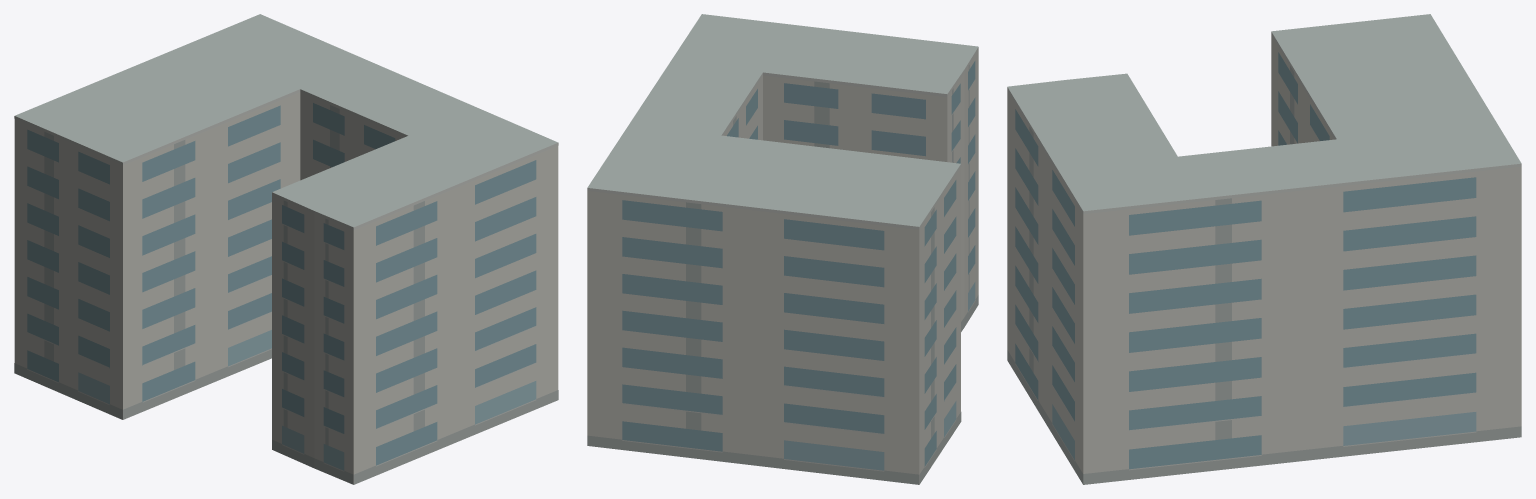
The model's file is residential-1e2c2783-6b8d-4338-878b-4f80bff09e83.glb.
3 views of the same model, side by side, from view 1: azimuth 30°, elevation 25°; view 2: azimuth 150°, elevation 25°; view 3: azimuth 270°, elevation 25° (orthographic). The views are drawn at different scales.
Visible parts, largest first — view 1: residential-1e2c2783-6b8d-4338-878b-4f80bff09e83.tmp; view 2: residential-1e2c2783-6b8d-4338-878b-4f80bff09e83.tmp; view 3: residential-1e2c2783-6b8d-4338-878b-4f80bff09e83.tmp.
Part boxes in pixels (left/top/right/bottom): residential-1e2c2783-6b8d-4338-878b-4f80bff09e83.tmp: left=14, top=14, right=558, bottom=484; residential-1e2c2783-6b8d-4338-878b-4f80bff09e83.tmp: left=587, top=14, right=978, bottom=484; residential-1e2c2783-6b8d-4338-878b-4f80bff09e83.tmp: left=1007, top=14, right=1521, bottom=484.
Size of the model in its own units: 33.03 by 21.35 by 36.39.
